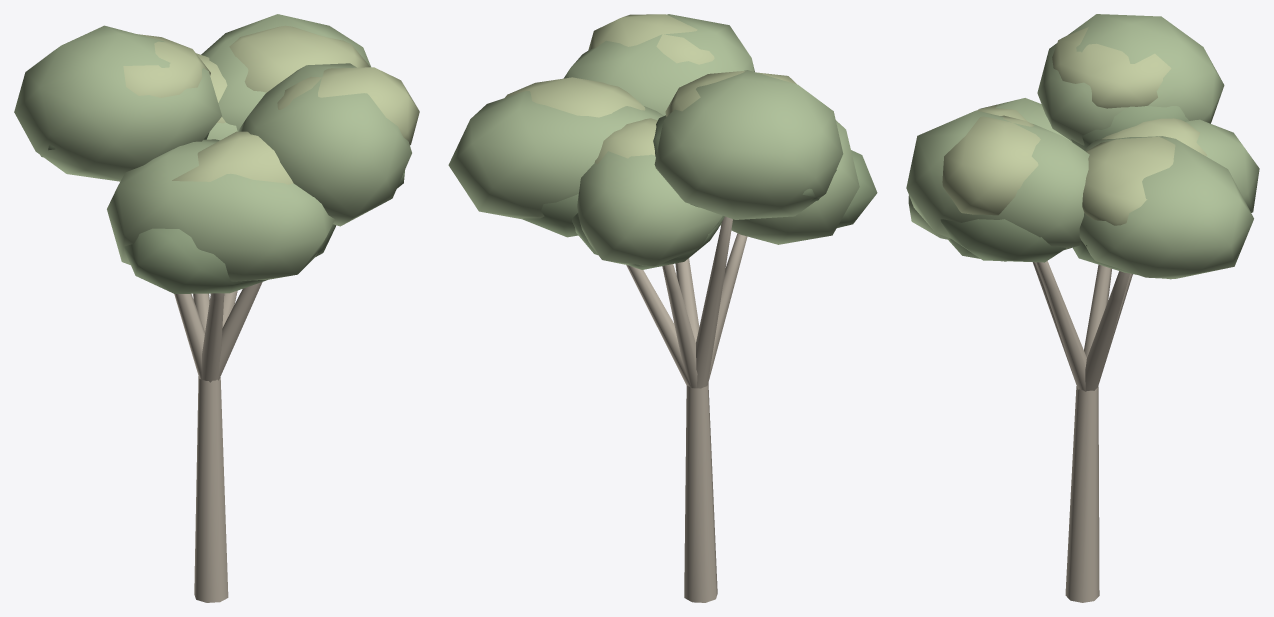
The model's file is tree_eucalyptus_5.glb.
The picture shows the model from 3 angles, left to right: view 1: azimuth 30°, elevation 25°; view 2: azimuth 150°, elevation 25°; view 3: azimuth 270°, elevation 25°; orthographic projection. The views are drawn at different scales.
Parts seen in each view (by area): view 1: tree_eucalyptus_5.glb; view 2: tree_eucalyptus_5.glb; view 3: tree_eucalyptus_5.glb.
Boxes of the visible parts, left/top/right/bottom form: tree_eucalyptus_5.glb: left=14, top=14, right=419, bottom=602; tree_eucalyptus_5.glb: left=448, top=14, right=877, bottom=602; tree_eucalyptus_5.glb: left=906, top=14, right=1259, bottom=602.
Size of the model in its own units: 5.23 by 8.06 by 4.77.
